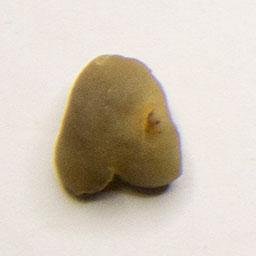defect: (50, 47, 187, 205)
